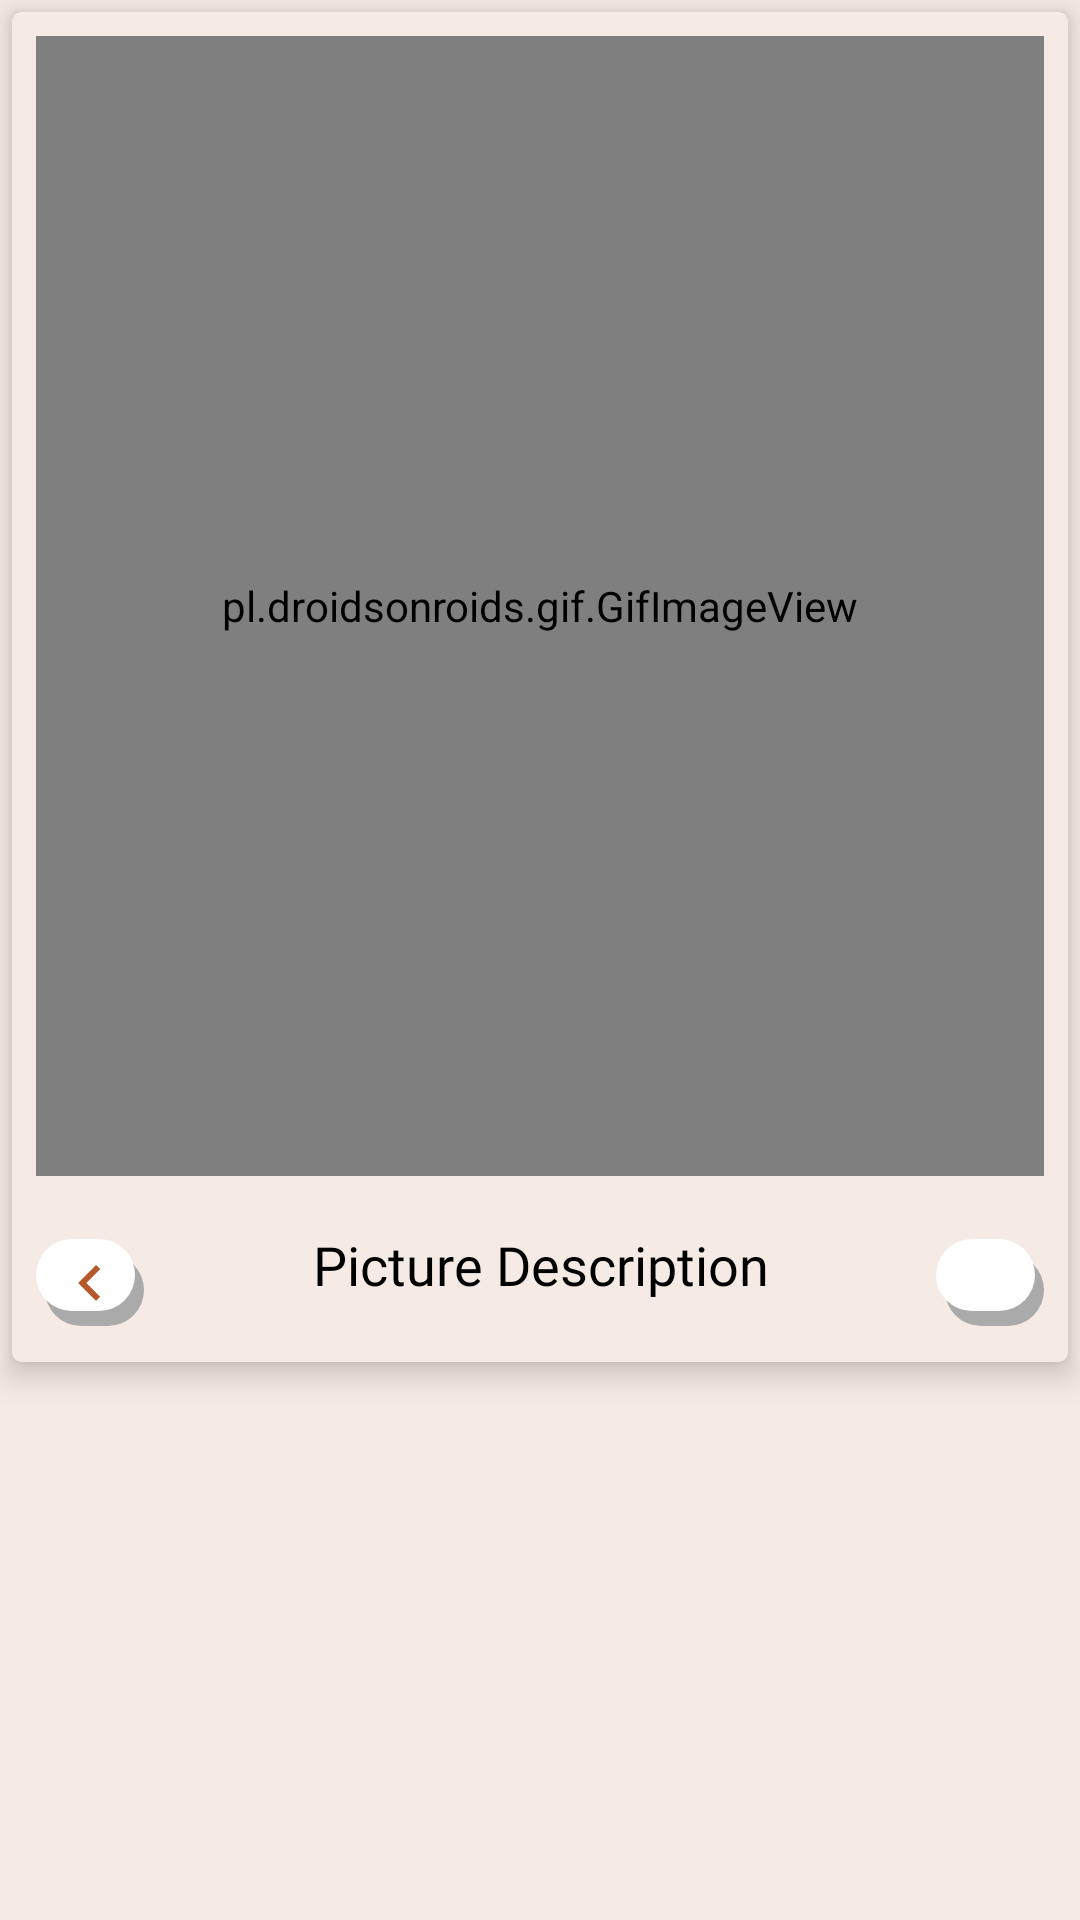

Where to tap for icons on this 1080 × 1920 app screen, as (x,y):
keyboard arrow left: (90,1282)
